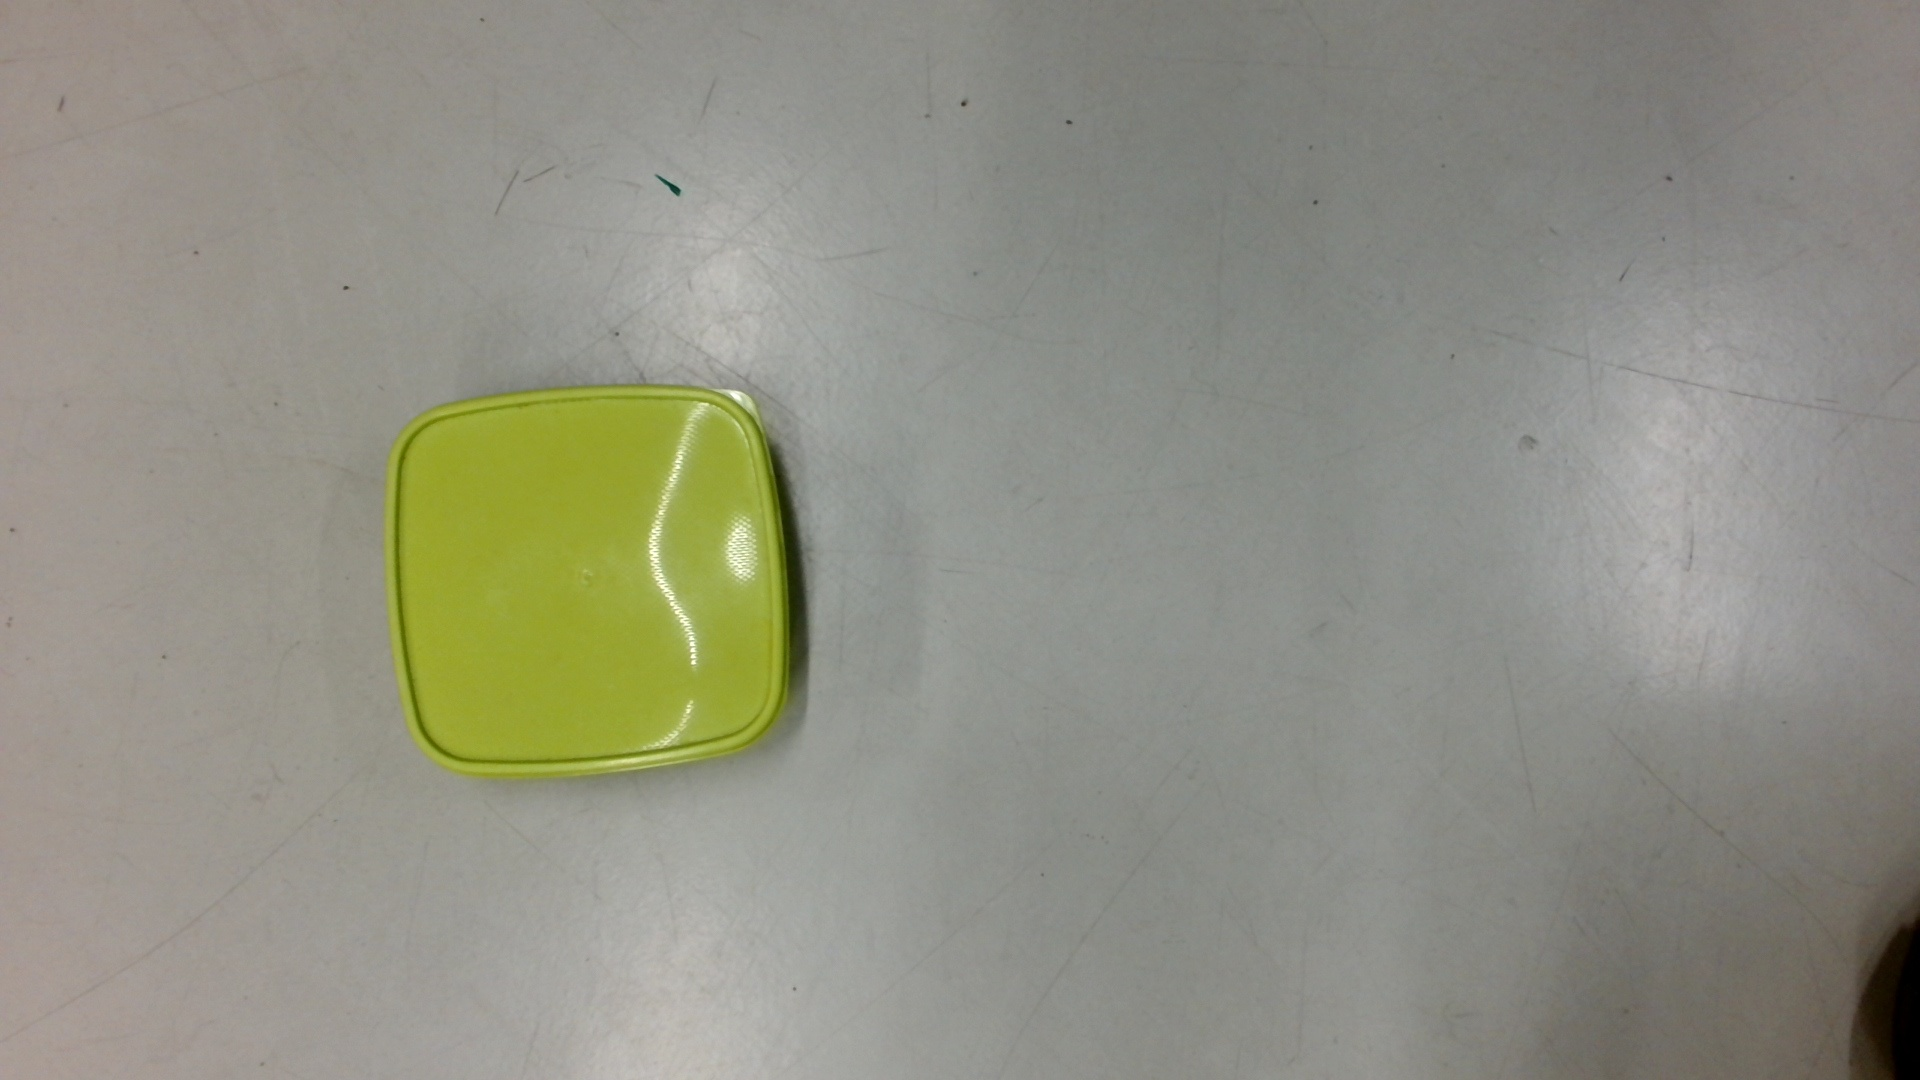Box: (376, 375, 810, 787)
